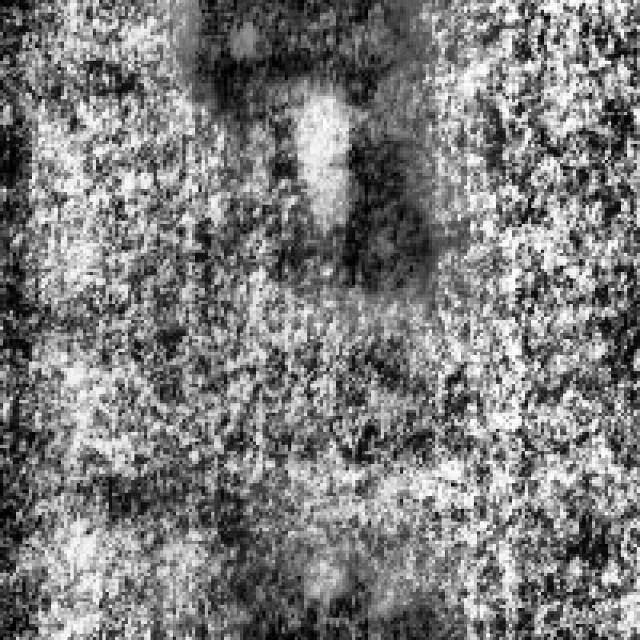Scratches: (182, 0, 412, 118), (326, 109, 432, 298), (202, 547, 416, 634)
